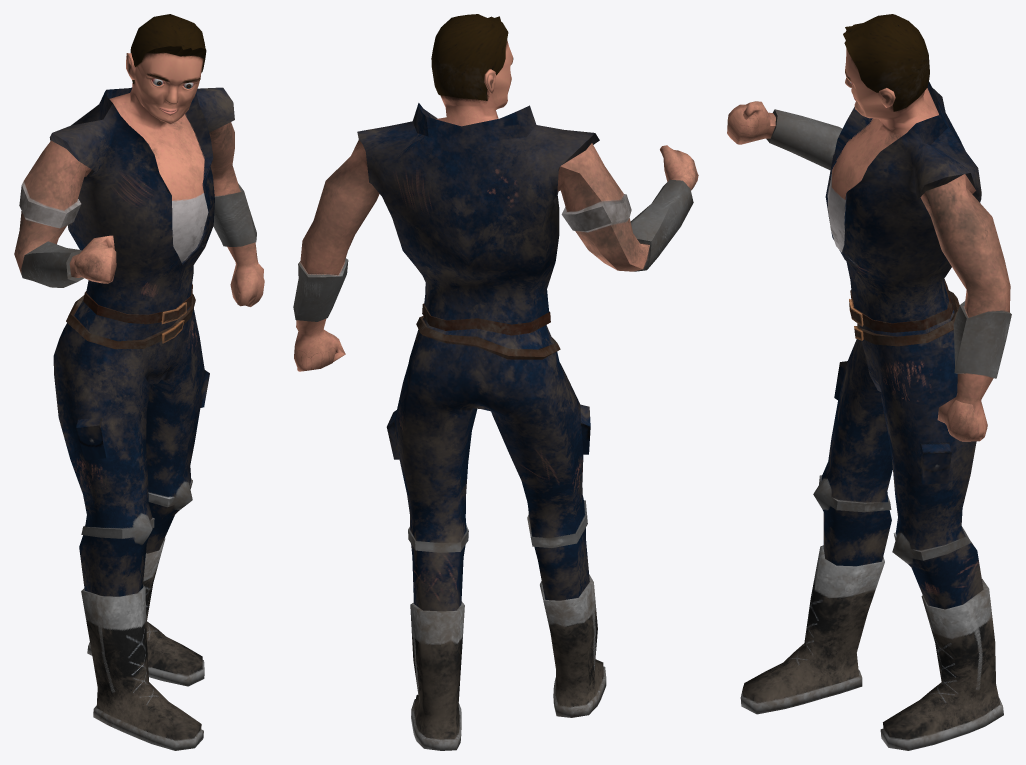
The model's file is Anim_puerta_mal_jugador.0034.obj.
3 views of the same model, side by side, from view 1: azimuth 30°, elevation 25°; view 2: azimuth 150°, elevation 25°; view 3: azimuth 270°, elevation 25° (orthographic). The views are drawn at different scales.
Visible parts, largest first — view 1: polySurface1; view 2: polySurface1; view 3: polySurface1.
Part boxes in pixels (bbox=[...]): polySurface1: bbox=[14, 14, 264, 750]; polySurface1: bbox=[293, 14, 698, 750]; polySurface1: bbox=[727, 14, 1011, 750].
Size of the model in its own units: 4.36 by 9.58 by 3.48.
